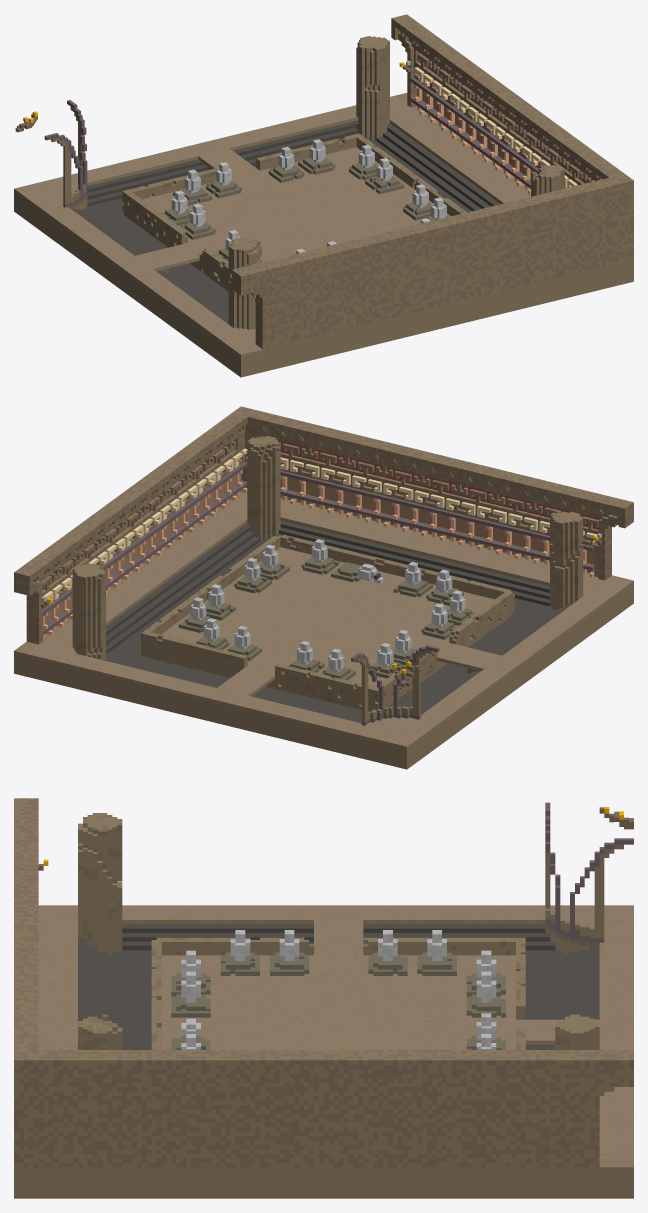
File: Room1-2.obj
3 views of the same model, one above another, from view 1: azimuth 30°, elevation 25°; view 2: azimuth 150°, elevation 25°; view 3: azimuth 270°, elevation 25° (orthographic). The views are drawn at different scales.
Bounding box in the file's own units: 12.6 × 3.1 × 12.6.
Materials: 1 (1 with a texture image).
